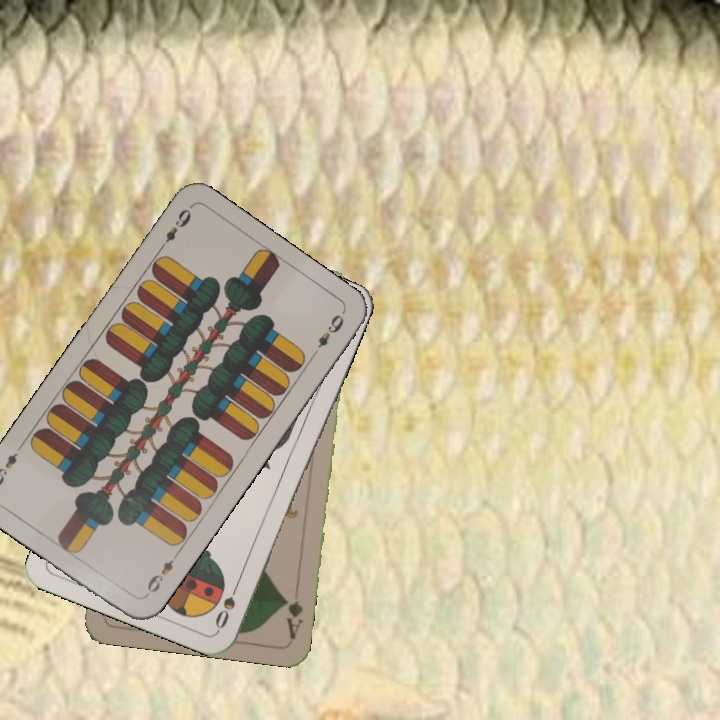E9: (141, 549, 181, 600), (154, 204, 194, 254)
GA: (280, 594, 306, 642)
SO: (211, 576, 243, 632)
